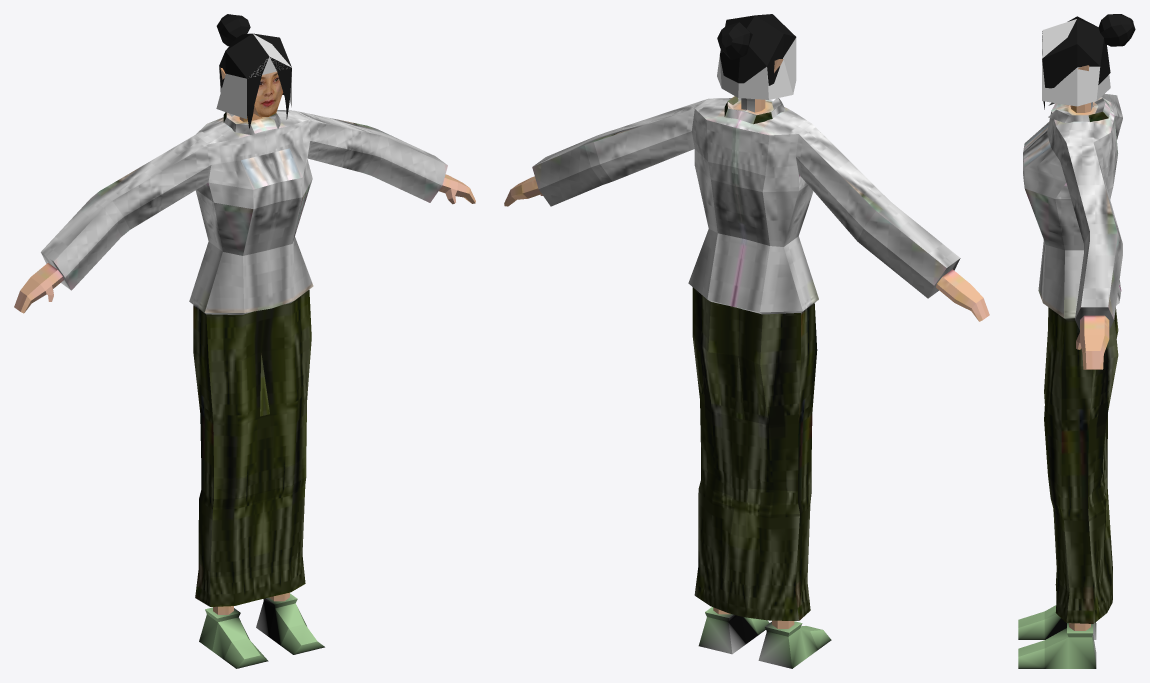
Rendered from Bu Inah.fbx.
The picture shows the model from 3 angles, left to right: view 1: azimuth 30°, elevation 25°; view 2: azimuth 150°, elevation 25°; view 3: azimuth 270°, elevation 25°; orthographic projection. The views are drawn at different scales.
Visible parts, largest first — view 1: Cylinder, Cube, Plane, Plane.001, i; view 2: Cylinder, Cube, Plane, Plane.001; view 3: Cylinder, Cube, Plane, Plane.001.
Boxes of the visible parts, left/top/right/bottom form: Cylinder: left=14, top=110, right=475, bottom=614; Cube: left=199, top=593, right=324, bottom=668; Plane: left=216, top=14, right=291, bottom=128; Plane.001: left=216, top=34, right=291, bottom=119; i: left=220, top=67, right=283, bottom=116; Cylinder: left=504, top=96, right=989, bottom=628; Cube: left=698, top=607, right=831, bottom=668; Plane: left=717, top=14, right=796, bottom=85; Plane.001: left=717, top=38, right=796, bottom=99; Cylinder: left=1023, top=94, right=1122, bottom=630; Cube: left=1018, top=605, right=1096, bottom=668; Plane: left=1042, top=14, right=1135, bottom=109; Plane.001: left=1042, top=19, right=1110, bottom=106.
Size of the model in its own units: 155 by 198 by 33.22.
